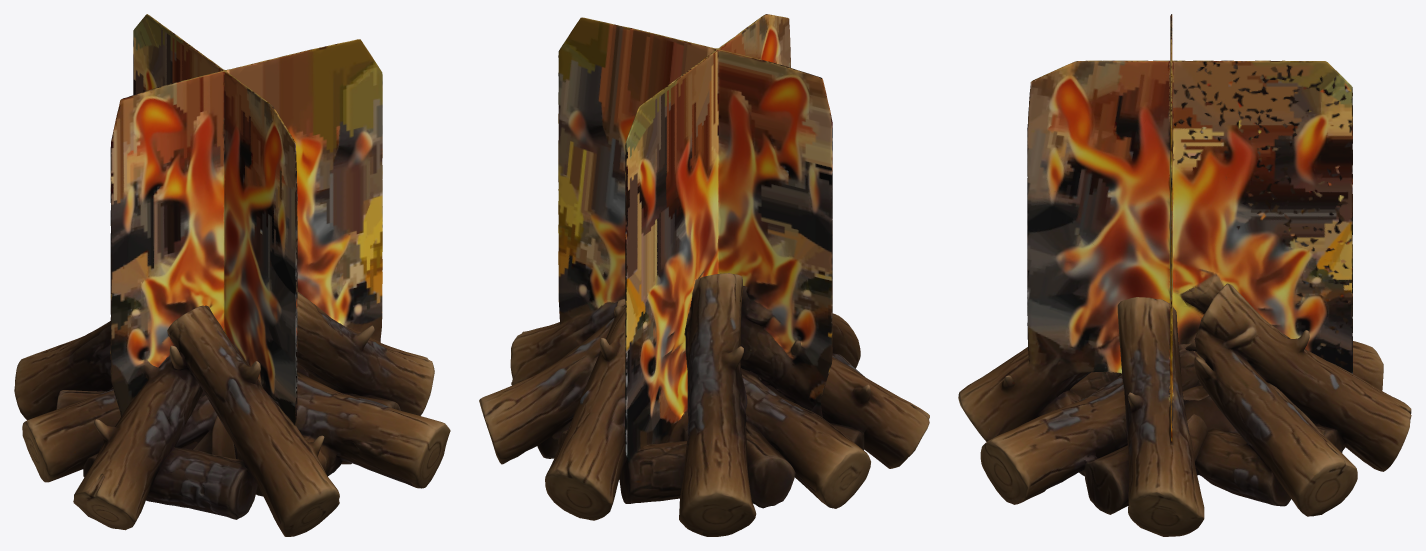
The model's file is campfire.glb.
3 views of the same model, side by side, from view 1: azimuth 30°, elevation 25°; view 2: azimuth 150°, elevation 25°; view 3: azimuth 270°, elevation 25° (orthographic).
Visible parts, largest first — view 1: world; view 2: world; view 3: world.
Boxes of the visible parts, bbox=[...] form: world: bbox=[14, 14, 450, 536]; world: bbox=[479, 14, 929, 536]; world: bbox=[958, 14, 1411, 536].
Size of the model in its own units: 0.9572 by 0.975 by 1.
1 material, 1 textured.
